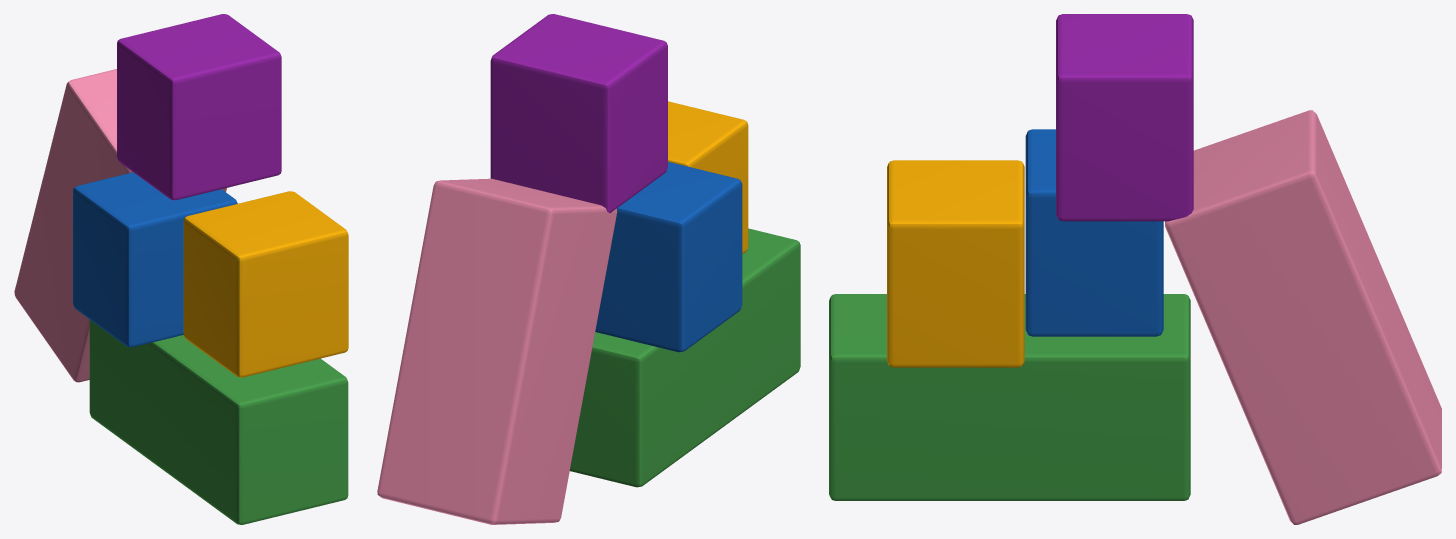
3 renders of one model, left to right at view 1: azimuth 30°, elevation 25°; view 2: azimuth 150°, elevation 25°; view 3: azimuth 270°, elevation 25°, orthographic. The views are drawn at different scales.
Visible parts, largest first — view 1: base_09; view 2: base_09; view 3: base_09.
Part boxes in pixels (x1,y1,x2,y2): base_09: (14,14,348,524); base_09: (377,14,800,524); base_09: (829,14,1441,524).
Bounding box in the file's own units: 3721 × 7886 × 9733.
Materials: 1 (1 with a texture image).
